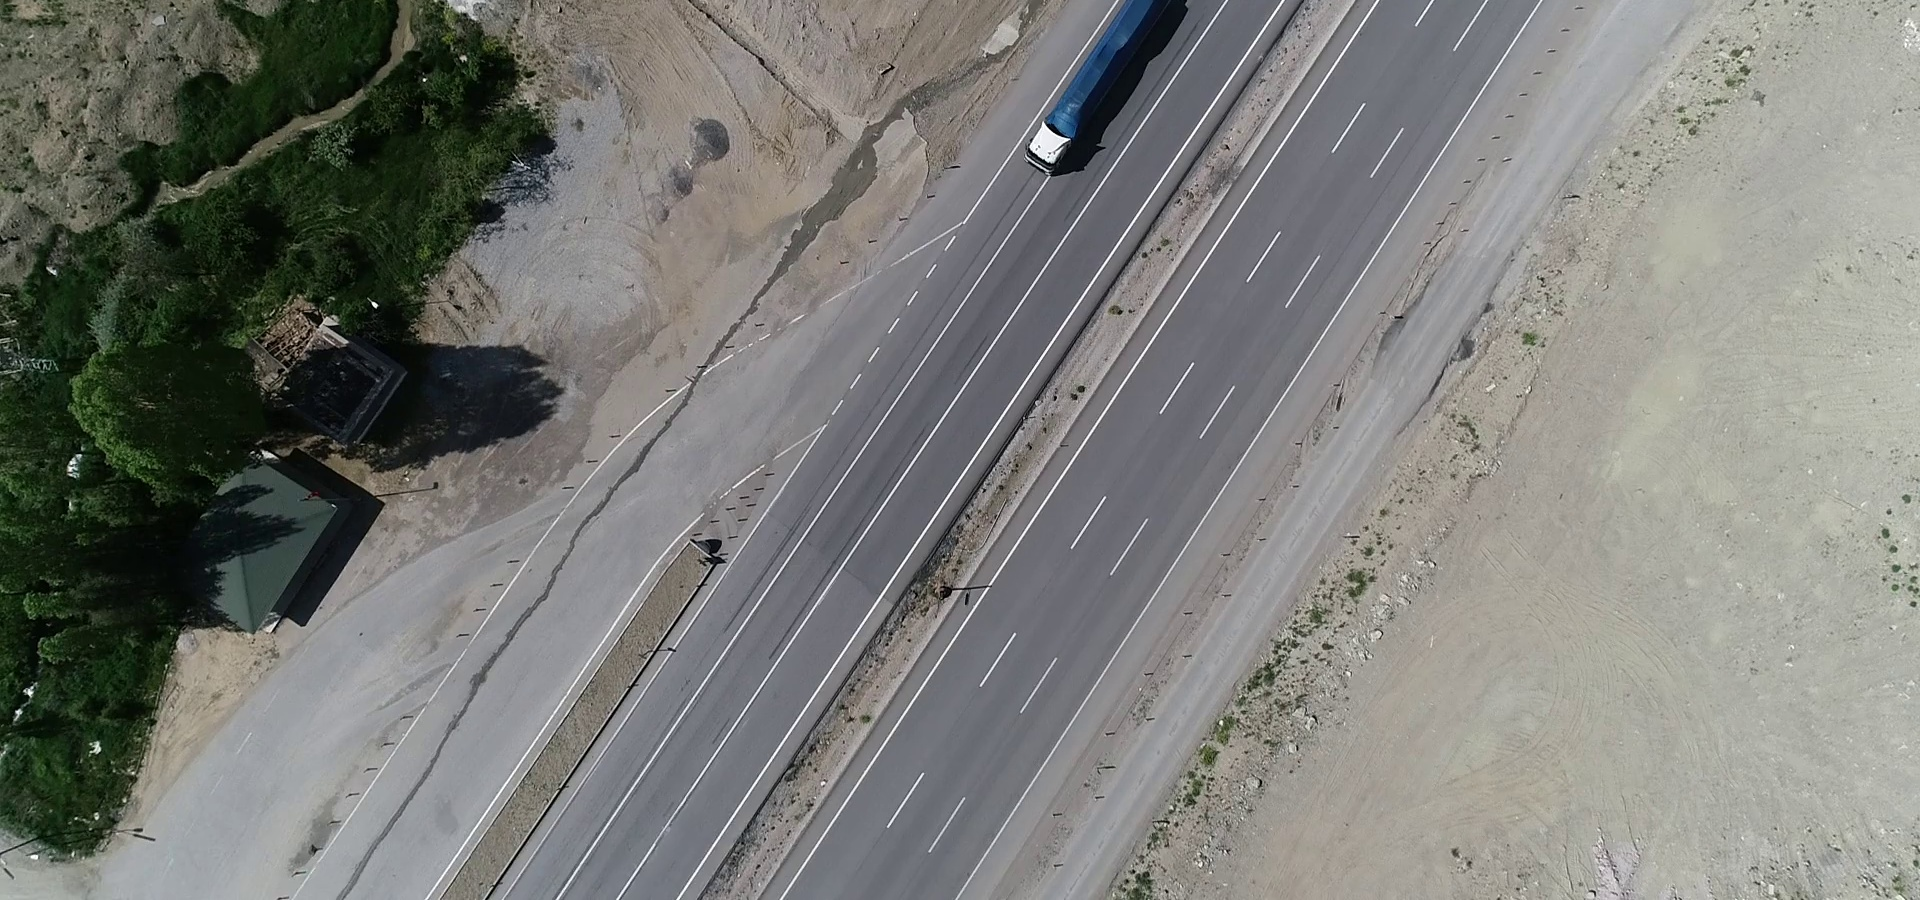arac: (1025, 1, 1166, 182)
